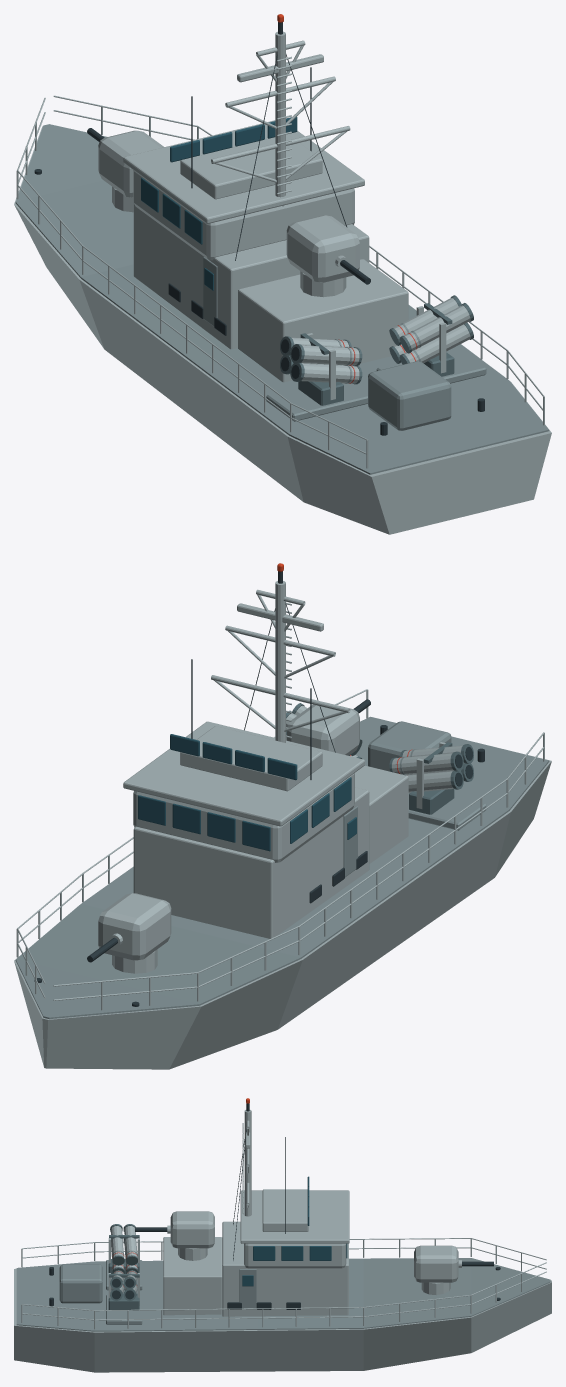
File: PatrolBoat_MissileBoss_Draft.fbx
3 renders of one model, top to bottom at view 1: azimuth 30°, elevation 25°; view 2: azimuth 150°, elevation 25°; view 3: azimuth 270°, elevation 25°, orthographic. The views are drawn at different scales.
Visible parts, largest first — view 1: Deck_surface, Hull_fixed_10x3_grid_envelope, Aft_deckhouse, Bridge_lower, Bridge_roof, Wheelhouse, Flying_bridge, Stern_equipment, Armored_turret.001, Armored_turret, Port_LauncherFoundation, Main_mast (+11 smaller); view 2: Deck_surface, Hull_fixed_10x3_grid_envelope, Bridge_lower, Bridge_roof, Flying_bridge, Wheelhouse, Armored_turret, Aft_deckhouse, Armored_turret.001, Stern_equipment, Main_mast, Port_LauncherFoundation (+11 smaller); view 3: Hull_fixed_10x3_grid_envelope, Deck_surface, Bridge_lower, Aft_deckhouse, Bridge_roof, Flying_bridge, Stern_equipment, Wheelhouse, Armored_turret.001, Armored_turret, Main_mast, Bridge_door.001 (+9 smaller).
Part boxes in pixels (box(x1,y1,x2,y2)): Deck_surface: box(15, 124, 549, 474); Hull_fixed_10x3_grid_envelope: box(14, 126, 551, 534); Aft_deckhouse: box(238, 259, 408, 382); Bridge_lower: box(133, 202, 369, 349); Bridge_roof: box(123, 120, 364, 223); Wheelhouse: box(133, 170, 354, 260); Flying_bridge: box(180, 134, 322, 199); Stern_equipment: box(368, 361, 451, 430); Armored_turret.001: box(286, 215, 359, 282); Armored_turret: box(98, 130, 164, 197); Port_LauncherFoundation: box(266, 383, 367, 421); Main_mast: box(275, 31, 285, 206); Deck_surface: box(15, 716, 549, 1019); Hull_fixed_10x3_grid_envelope: box(14, 717, 551, 1069); Bridge_lower: box(133, 787, 369, 938); Bridge_roof: box(123, 721, 364, 826); Flying_bridge: box(180, 726, 322, 791); Wheelhouse: box(133, 773, 354, 862); Armored_turret: box(98, 893, 171, 960); Aft_deckhouse: box(355, 765, 408, 863); Armored_turret.001: box(286, 704, 359, 755); Stern_equipment: box(368, 721, 451, 771); Main_mast: box(275, 581, 285, 742); Port_LauncherFoundation: box(408, 793, 486, 830); Hull_fixed_10x3_grid_envelope: box(14, 1268, 551, 1372); Deck_surface: box(16, 1258, 550, 1331); Bridge_lower: box(222, 1221, 348, 1316); Aft_deckhouse: box(163, 1237, 222, 1315); Bridge_roof: box(240, 1190, 349, 1243); Flying_bridge: box(262, 1189, 308, 1231); Stern_equipment: box(59, 1264, 102, 1303); Wheelhouse: box(244, 1243, 346, 1268); Armored_turret.001: box(170, 1211, 214, 1248); Armored_turret: box(414, 1245, 458, 1282); Main_mast: box(244, 1110, 251, 1216); Bridge_door.001: box(239, 1269, 256, 1308).
Size of the model in its own units: 6.2 by 10.05 by 20.
